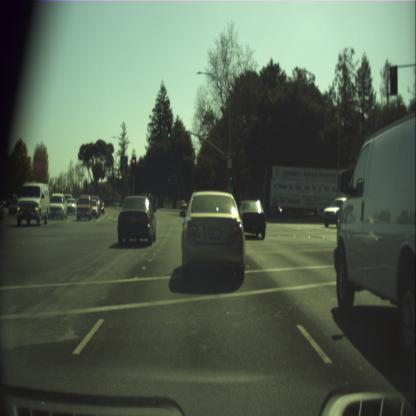Green: (229, 168, 232, 181), (168, 122, 170, 138)
RedLeft: (132, 156, 136, 175)
